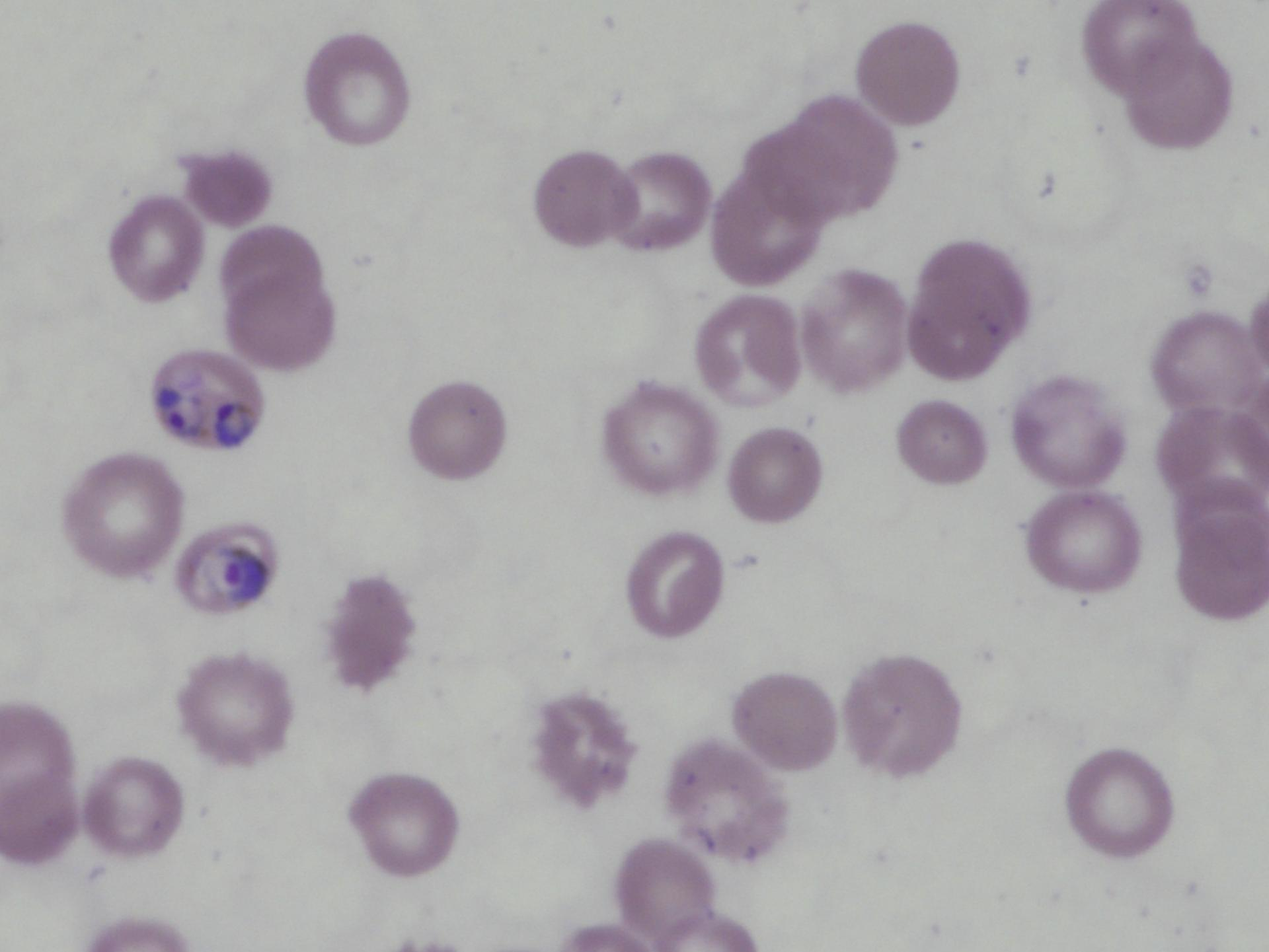Infected: (153, 348, 263, 449), (176, 522, 276, 610)
Uninfected: (1083, 0, 1229, 145), (906, 240, 1029, 379), (220, 226, 332, 366), (771, 97, 898, 219), (666, 742, 788, 861), (61, 456, 181, 576), (844, 657, 961, 775), (177, 657, 291, 765), (799, 272, 905, 388), (1, 706, 80, 860), (604, 384, 716, 492), (712, 176, 821, 285), (1013, 378, 1123, 484), (1024, 493, 1139, 593), (533, 693, 634, 805), (1150, 316, 1263, 416), (1065, 750, 1172, 855), (697, 297, 801, 405), (306, 35, 408, 143), (1174, 503, 1269, 617), (349, 775, 455, 875), (856, 24, 959, 124), (326, 576, 413, 692), (733, 674, 837, 771), (1157, 406, 1265, 499), (627, 534, 724, 634), (83, 758, 181, 856), (109, 199, 202, 299), (618, 841, 714, 936), (535, 153, 633, 245), (414, 382, 505, 480), (729, 429, 821, 520), (620, 155, 708, 248), (897, 399, 987, 484), (181, 151, 271, 228), (1182, 479, 1269, 544)
